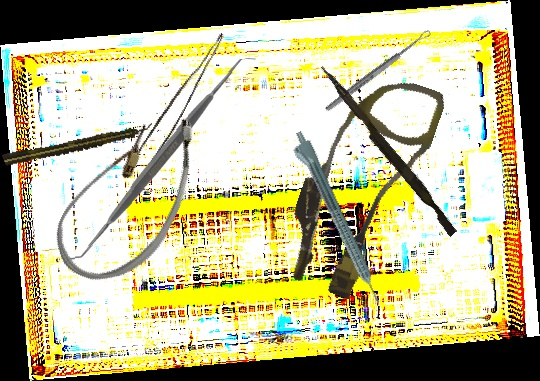Cannula: (272, 60, 449, 308), (41, 88, 217, 302)
Handpiece: (285, 129, 385, 309), (1, 121, 155, 168)
Pusher: (313, 64, 462, 237)
Spatula Surgical: (60, 58, 260, 260)
Surgical Spoon: (323, 28, 433, 114)
Tissue Forceps: (128, 24, 225, 179)
